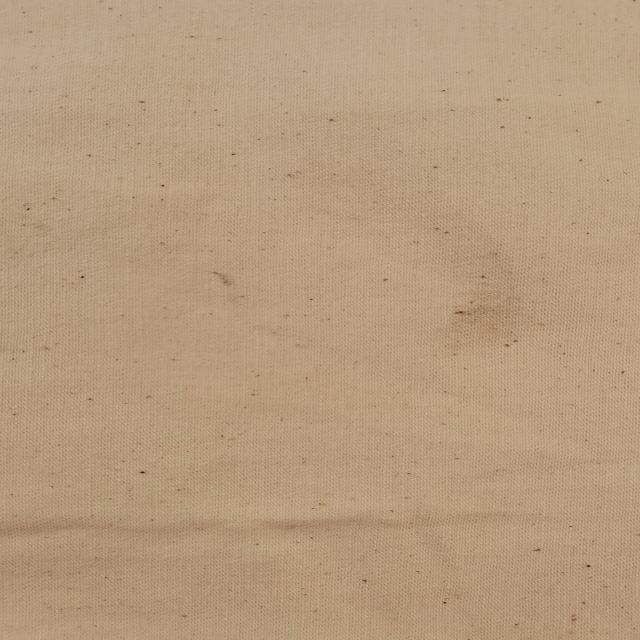taaaches: (363, 203, 555, 354), (198, 261, 240, 290)
